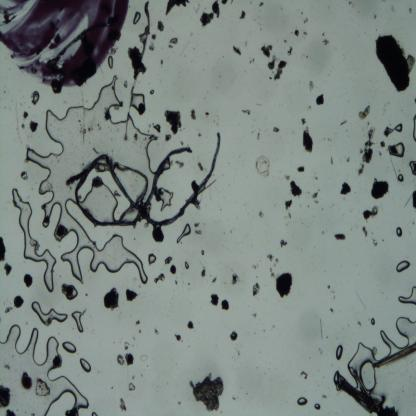Air bubble: (17, 73, 154, 173), (43, 195, 148, 286), (0, 324, 88, 415), (11, 187, 54, 293), (85, 184, 116, 222), (31, 300, 69, 327), (346, 340, 378, 372), (358, 358, 378, 393), (396, 316, 416, 344), (379, 328, 398, 354), (398, 285, 416, 307), (158, 187, 174, 210), (71, 308, 85, 332), (176, 223, 191, 243), (131, 92, 145, 110), (79, 356, 92, 374), (395, 260, 410, 274), (394, 141, 406, 158), (62, 340, 76, 354), (335, 344, 344, 362), (394, 224, 404, 240), (31, 90, 40, 106), (132, 11, 142, 24), (147, 252, 156, 266), (297, 395, 308, 406), (412, 116, 416, 144), (108, 54, 114, 71), (393, 122, 403, 132), (397, 173, 405, 182), (184, 259, 190, 271), (370, 316, 376, 326), (198, 162, 204, 172), (314, 403, 320, 411), (200, 248, 206, 256)
Background material: (332, 372, 401, 416), (372, 30, 414, 94), (186, 370, 227, 410), (357, 126, 376, 176), (128, 46, 147, 77), (274, 270, 294, 299), (200, 2, 222, 27), (163, 108, 183, 135), (254, 154, 274, 180), (371, 176, 389, 200), (102, 287, 120, 311), (33, 376, 52, 398), (165, 0, 192, 14), (302, 128, 315, 154), (61, 281, 77, 300), (272, 57, 286, 78), (0, 384, 12, 408), (150, 225, 165, 243), (117, 352, 136, 366), (21, 370, 33, 392), (357, 104, 373, 120), (124, 286, 140, 302), (269, 251, 278, 279), (362, 206, 380, 220), (289, 182, 304, 198), (0, 233, 7, 264), (334, 230, 348, 244), (12, 294, 25, 309), (117, 396, 129, 412), (152, 271, 168, 283), (193, 220, 204, 237), (229, 271, 242, 285), (339, 181, 352, 195), (149, 34, 158, 54), (406, 53, 416, 71), (262, 43, 274, 58), (22, 274, 34, 288), (91, 175, 104, 187), (50, 355, 62, 368), (315, 92, 326, 106), (252, 282, 262, 297), (318, 316, 324, 340), (137, 102, 147, 116), (229, 329, 239, 343), (382, 124, 392, 138), (103, 106, 111, 123), (311, 189, 319, 206), (268, 57, 277, 72), (126, 380, 136, 393), (221, 298, 230, 312), (410, 188, 416, 209), (3, 262, 12, 276), (238, 10, 249, 21), (30, 119, 38, 134), (156, 20, 166, 32), (284, 199, 294, 211), (122, 341, 134, 351), (409, 159, 416, 176), (210, 293, 219, 306), (170, 262, 178, 276), (296, 164, 306, 175), (241, 107, 252, 117), (189, 109, 198, 121), (361, 224, 369, 237), (232, 46, 242, 56), (164, 132, 174, 142), (164, 254, 172, 266), (286, 46, 294, 58), (278, 238, 288, 247), (175, 160, 186, 168), (300, 116, 308, 127), (293, 26, 300, 38), (152, 125, 162, 133), (5, 408, 15, 416), (198, 268, 206, 278), (320, 38, 330, 46), (300, 370, 308, 379), (186, 320, 194, 329), (170, 38, 178, 47), (271, 125, 280, 133), (308, 80, 314, 92), (21, 170, 28, 180), (338, 119, 348, 126), (22, 110, 28, 121), (174, 334, 182, 342), (4, 306, 12, 314), (211, 276, 218, 284), (140, 354, 148, 361), (259, 210, 265, 219), (379, 141, 386, 148), (303, 17, 310, 24), (253, 264, 260, 271), (372, 238, 378, 246), (328, 157, 334, 165), (221, 0, 228, 6), (302, 30, 308, 37), (249, 58, 255, 65), (256, 132, 261, 140), (318, 347, 323, 355), (326, 284, 332, 290), (134, 319, 140, 325), (284, 173, 290, 179), (356, 320, 362, 326), (259, 0, 264, 7), (155, 328, 159, 336), (307, 105, 312, 111), (252, 312, 257, 318), (330, 307, 335, 313), (322, 394, 327, 400), (231, 396, 237, 401), (346, 157, 352, 162), (348, 0, 353, 6), (409, 7, 413, 14), (256, 102, 263, 106), (206, 111, 210, 118), (92, 411, 98, 415), (174, 279, 178, 285), (230, 0, 234, 6), (288, 212, 291, 219), (413, 96, 416, 103), (322, 32, 326, 37), (301, 10, 304, 16), (306, 54, 309, 60), (138, 330, 142, 334), (374, 14, 376, 20), (284, 40, 287, 44)
Cellulose filter fibre: (124, 0, 150, 141)
Cotton: (66, 132, 221, 228)
Pen: (0, 0, 129, 88)
